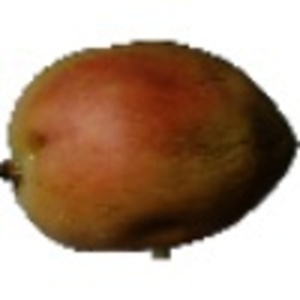mamão: (6, 38, 297, 254)
